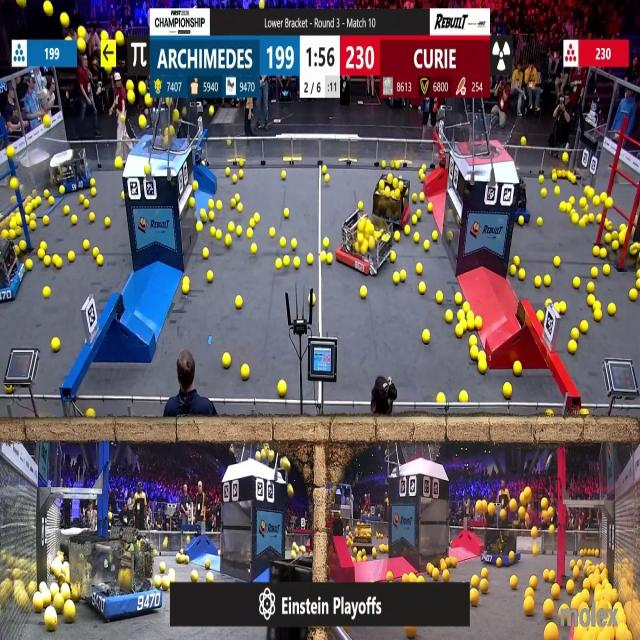ball_airborne: (520, 490, 528, 505), (61, 13, 70, 26), (139, 114, 147, 127), (115, 32, 123, 45), (44, 2, 52, 15), (144, 95, 152, 107), (128, 92, 136, 104), (282, 458, 290, 470), (10, 177, 18, 189), (77, 39, 85, 51), (77, 27, 85, 39), (139, 81, 146, 94), (543, 509, 552, 519), (488, 502, 495, 514), (269, 451, 276, 463), (43, 114, 50, 126), (531, 527, 538, 538), (520, 508, 527, 519), (511, 499, 518, 510), (475, 500, 482, 511), (287, 485, 293, 497), (7, 145, 13, 157), (127, 80, 134, 90), (173, 110, 180, 120), (16, 0, 24, 8), (144, 166, 150, 176), (209, 106, 215, 116), (106, 63, 112, 73), (102, 31, 108, 41), (169, 127, 174, 138), (500, 511, 506, 520), (521, 137, 527, 146), (255, 452, 260, 462), (164, 137, 170, 145), (259, 0, 264, 9), (120, 114, 124, 122)
ball_ground: (44, 612, 56, 632), (65, 602, 76, 622), (542, 600, 552, 618), (524, 598, 534, 616), (544, 625, 556, 640), (514, 360, 523, 376), (469, 590, 478, 606), (407, 626, 417, 640), (34, 598, 44, 612), (502, 383, 511, 398), (241, 364, 250, 378), (478, 358, 487, 372), (552, 586, 561, 600), (278, 381, 286, 396), (543, 570, 553, 582), (568, 341, 577, 354), (222, 353, 230, 367), (566, 582, 574, 596), (51, 338, 59, 352), (481, 580, 489, 594), (629, 289, 638, 301), (236, 295, 244, 308), (456, 324, 464, 337), (422, 331, 430, 344), (511, 575, 519, 588), (448, 557, 457, 568), (71, 588, 78, 602), (594, 310, 602, 322), (446, 311, 454, 323), (459, 390, 467, 402), (570, 327, 578, 339), (470, 575, 478, 587), (55, 256, 63, 268), (474, 317, 481, 330), (582, 320, 589, 333), (602, 266, 610, 277), (588, 282, 596, 293), (68, 251, 76, 262), (114, 159, 122, 170), (518, 270, 526, 281), (588, 294, 596, 305), (43, 286, 50, 298), (419, 282, 426, 294), (608, 305, 615, 317), (469, 347, 476, 359), (530, 575, 537, 587), (534, 276, 541, 288), (444, 569, 451, 581), (525, 588, 534, 597), (206, 572, 214, 582), (386, 570, 394, 580), (468, 337, 476, 347), (578, 216, 586, 226), (588, 214, 596, 224), (468, 322, 476, 332), (203, 248, 210, 259), (455, 292, 462, 303), (435, 291, 442, 302), (276, 260, 283, 271), (439, 392, 446, 403), (571, 213, 578, 224), (431, 568, 438, 579), (360, 286, 366, 298), (592, 268, 598, 280), (560, 302, 566, 314), (466, 312, 474, 321), (88, 410, 96, 419), (586, 185, 592, 197), (82, 241, 89, 251), (543, 276, 550, 286), (458, 311, 465, 321), (227, 222, 234, 232), (283, 256, 290, 266), (392, 274, 399, 284), (270, 229, 277, 239), (163, 581, 170, 591), (34, 198, 41, 208), (605, 200, 612, 210), (442, 559, 449, 569), (207, 272, 213, 283), (290, 239, 296, 250), (399, 271, 405, 282), (191, 570, 197, 581), (293, 257, 299, 268), (224, 236, 230, 247), (237, 224, 243, 235), (19, 241, 25, 252), (611, 241, 617, 252), (511, 267, 517, 278), (164, 537, 170, 548), (322, 239, 329, 248), (482, 568, 489, 577), (188, 199, 195, 208), (594, 302, 601, 311), (555, 256, 561, 266), (308, 254, 314, 264), (251, 244, 257, 254), (573, 278, 579, 288), (44, 256, 50, 266), (98, 255, 104, 265), (537, 312, 543, 322), (536, 216, 542, 226), (280, 238, 286, 248), (182, 284, 188, 294), (195, 221, 201, 231), (42, 216, 48, 226), (27, 261, 33, 271), (390, 252, 396, 262), (424, 241, 430, 251), (326, 254, 332, 264), (414, 234, 420, 244), (394, 232, 400, 242), (515, 255, 521, 265), (38, 249, 44, 259), (600, 248, 606, 258), (209, 211, 215, 221), (596, 213, 602, 223), (560, 203, 566, 213), (161, 562, 167, 572), (186, 278, 192, 288), (210, 226, 216, 236), (604, 234, 610, 244), (427, 564, 433, 574), (93, 248, 100, 256), (479, 352, 486, 360), (539, 188, 546, 196), (380, 544, 387, 552), (579, 410, 586, 418), (417, 265, 422, 276), (64, 206, 70, 215), (71, 215, 77, 224), (403, 225, 409, 234), (519, 216, 525, 225), (247, 230, 253, 239), (91, 178, 97, 187), (320, 253, 326, 262), (579, 199, 585, 208), (205, 560, 211, 569), (594, 198, 600, 207), (231, 200, 237, 209), (238, 204, 244, 213), (570, 175, 576, 184), (572, 568, 578, 577), (105, 217, 110, 227), (216, 201, 221, 211), (31, 220, 36, 230), (496, 558, 501, 568), (545, 411, 552, 418), (83, 201, 89, 209), (463, 304, 469, 312), (92, 187, 98, 195), (555, 186, 561, 194), (420, 174, 426, 182), (418, 574, 424, 582), (402, 573, 408, 581), (569, 198, 575, 206), (176, 556, 182, 564), (47, 198, 53, 206), (411, 573, 417, 581), (381, 162, 387, 170), (284, 209, 289, 218), (91, 213, 96, 222), (594, 247, 599, 256), (428, 204, 433, 213), (413, 215, 418, 224), (216, 231, 221, 240), (281, 171, 286, 180), (358, 202, 363, 211), (209, 201, 214, 210), (413, 192, 418, 201), (61, 185, 66, 194), (538, 176, 544, 183), (40, 242, 46, 249), (544, 298, 550, 305), (6, 386, 12, 393), (420, 192, 425, 200), (250, 219, 255, 227), (417, 210, 422, 218), (254, 214, 259, 222), (371, 550, 376, 558), (183, 556, 188, 564), (44, 189, 49, 197), (31, 214, 36, 222), (432, 233, 436, 242), (202, 209, 206, 218), (192, 181, 196, 190), (321, 167, 326, 174), (553, 174, 558, 181), (395, 163, 400, 170), (324, 175, 328, 183), (225, 168, 229, 176), (236, 192, 240, 200), (636, 280, 640, 288), (234, 175, 238, 183), (240, 171, 244, 179), (79, 194, 83, 202), (362, 556, 367, 562), (422, 163, 427, 169), (636, 272, 640, 279), (240, 161, 244, 168), (120, 191, 123, 199), (218, 551, 221, 557)
goal: (460, 116, 517, 158)
robot_blue: (81, 540, 163, 622), (52, 152, 92, 194), (483, 526, 522, 566), (0, 240, 24, 303), (347, 519, 375, 554)
robot_red: (337, 214, 391, 276), (372, 173, 410, 227)
